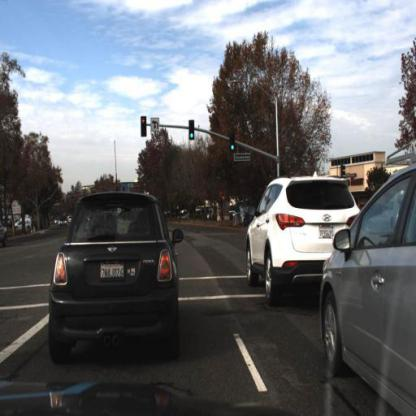car: (310, 130, 416, 414), (46, 184, 189, 383), (247, 172, 359, 304), (1, 205, 15, 259), (12, 215, 36, 240)
trafficLight-Green: (227, 132, 240, 163), (188, 118, 198, 149), (229, 130, 238, 153)
trafficLight-RedLeft: (138, 116, 149, 145)
